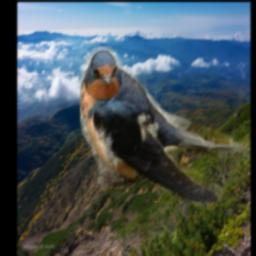Swallow: (79, 46, 250, 202)
